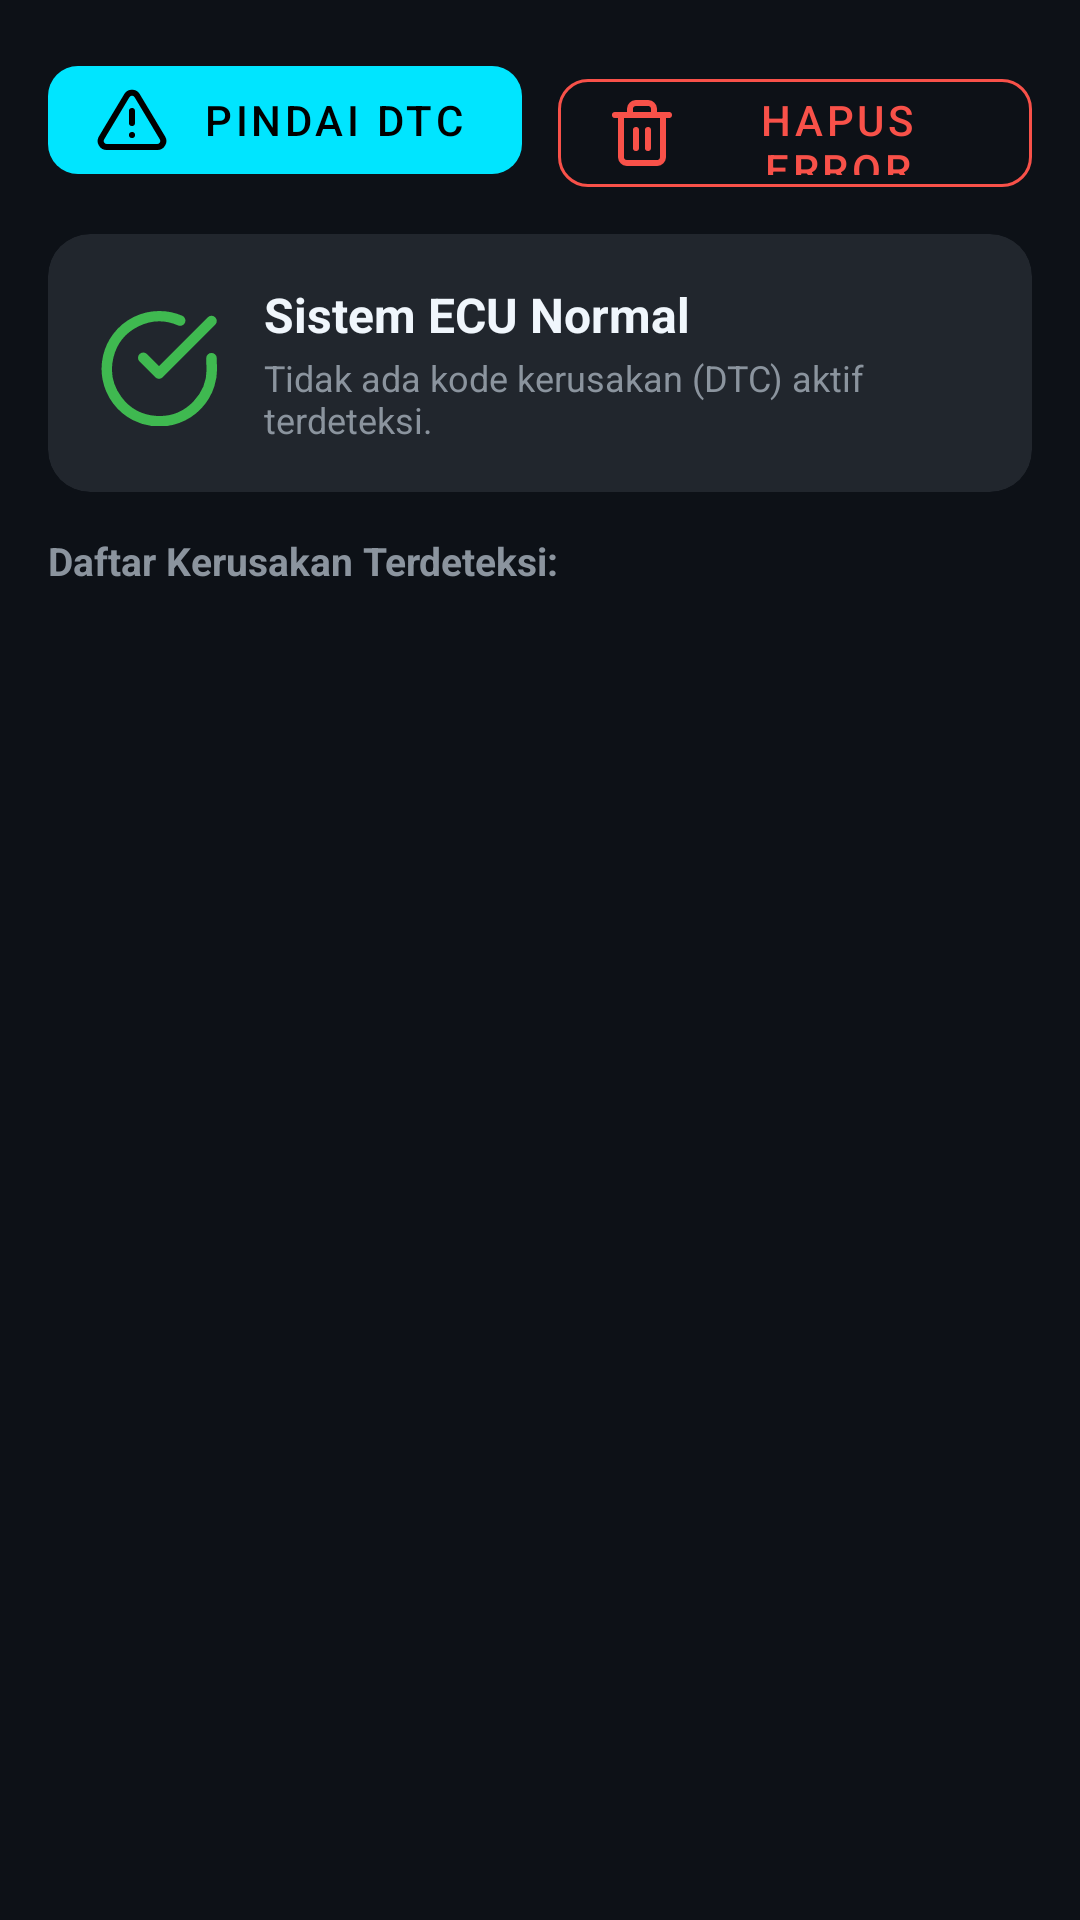

Icon click points for this 1080×1920 phone screenshot, format [x,y]:
check circle: [159,368]
